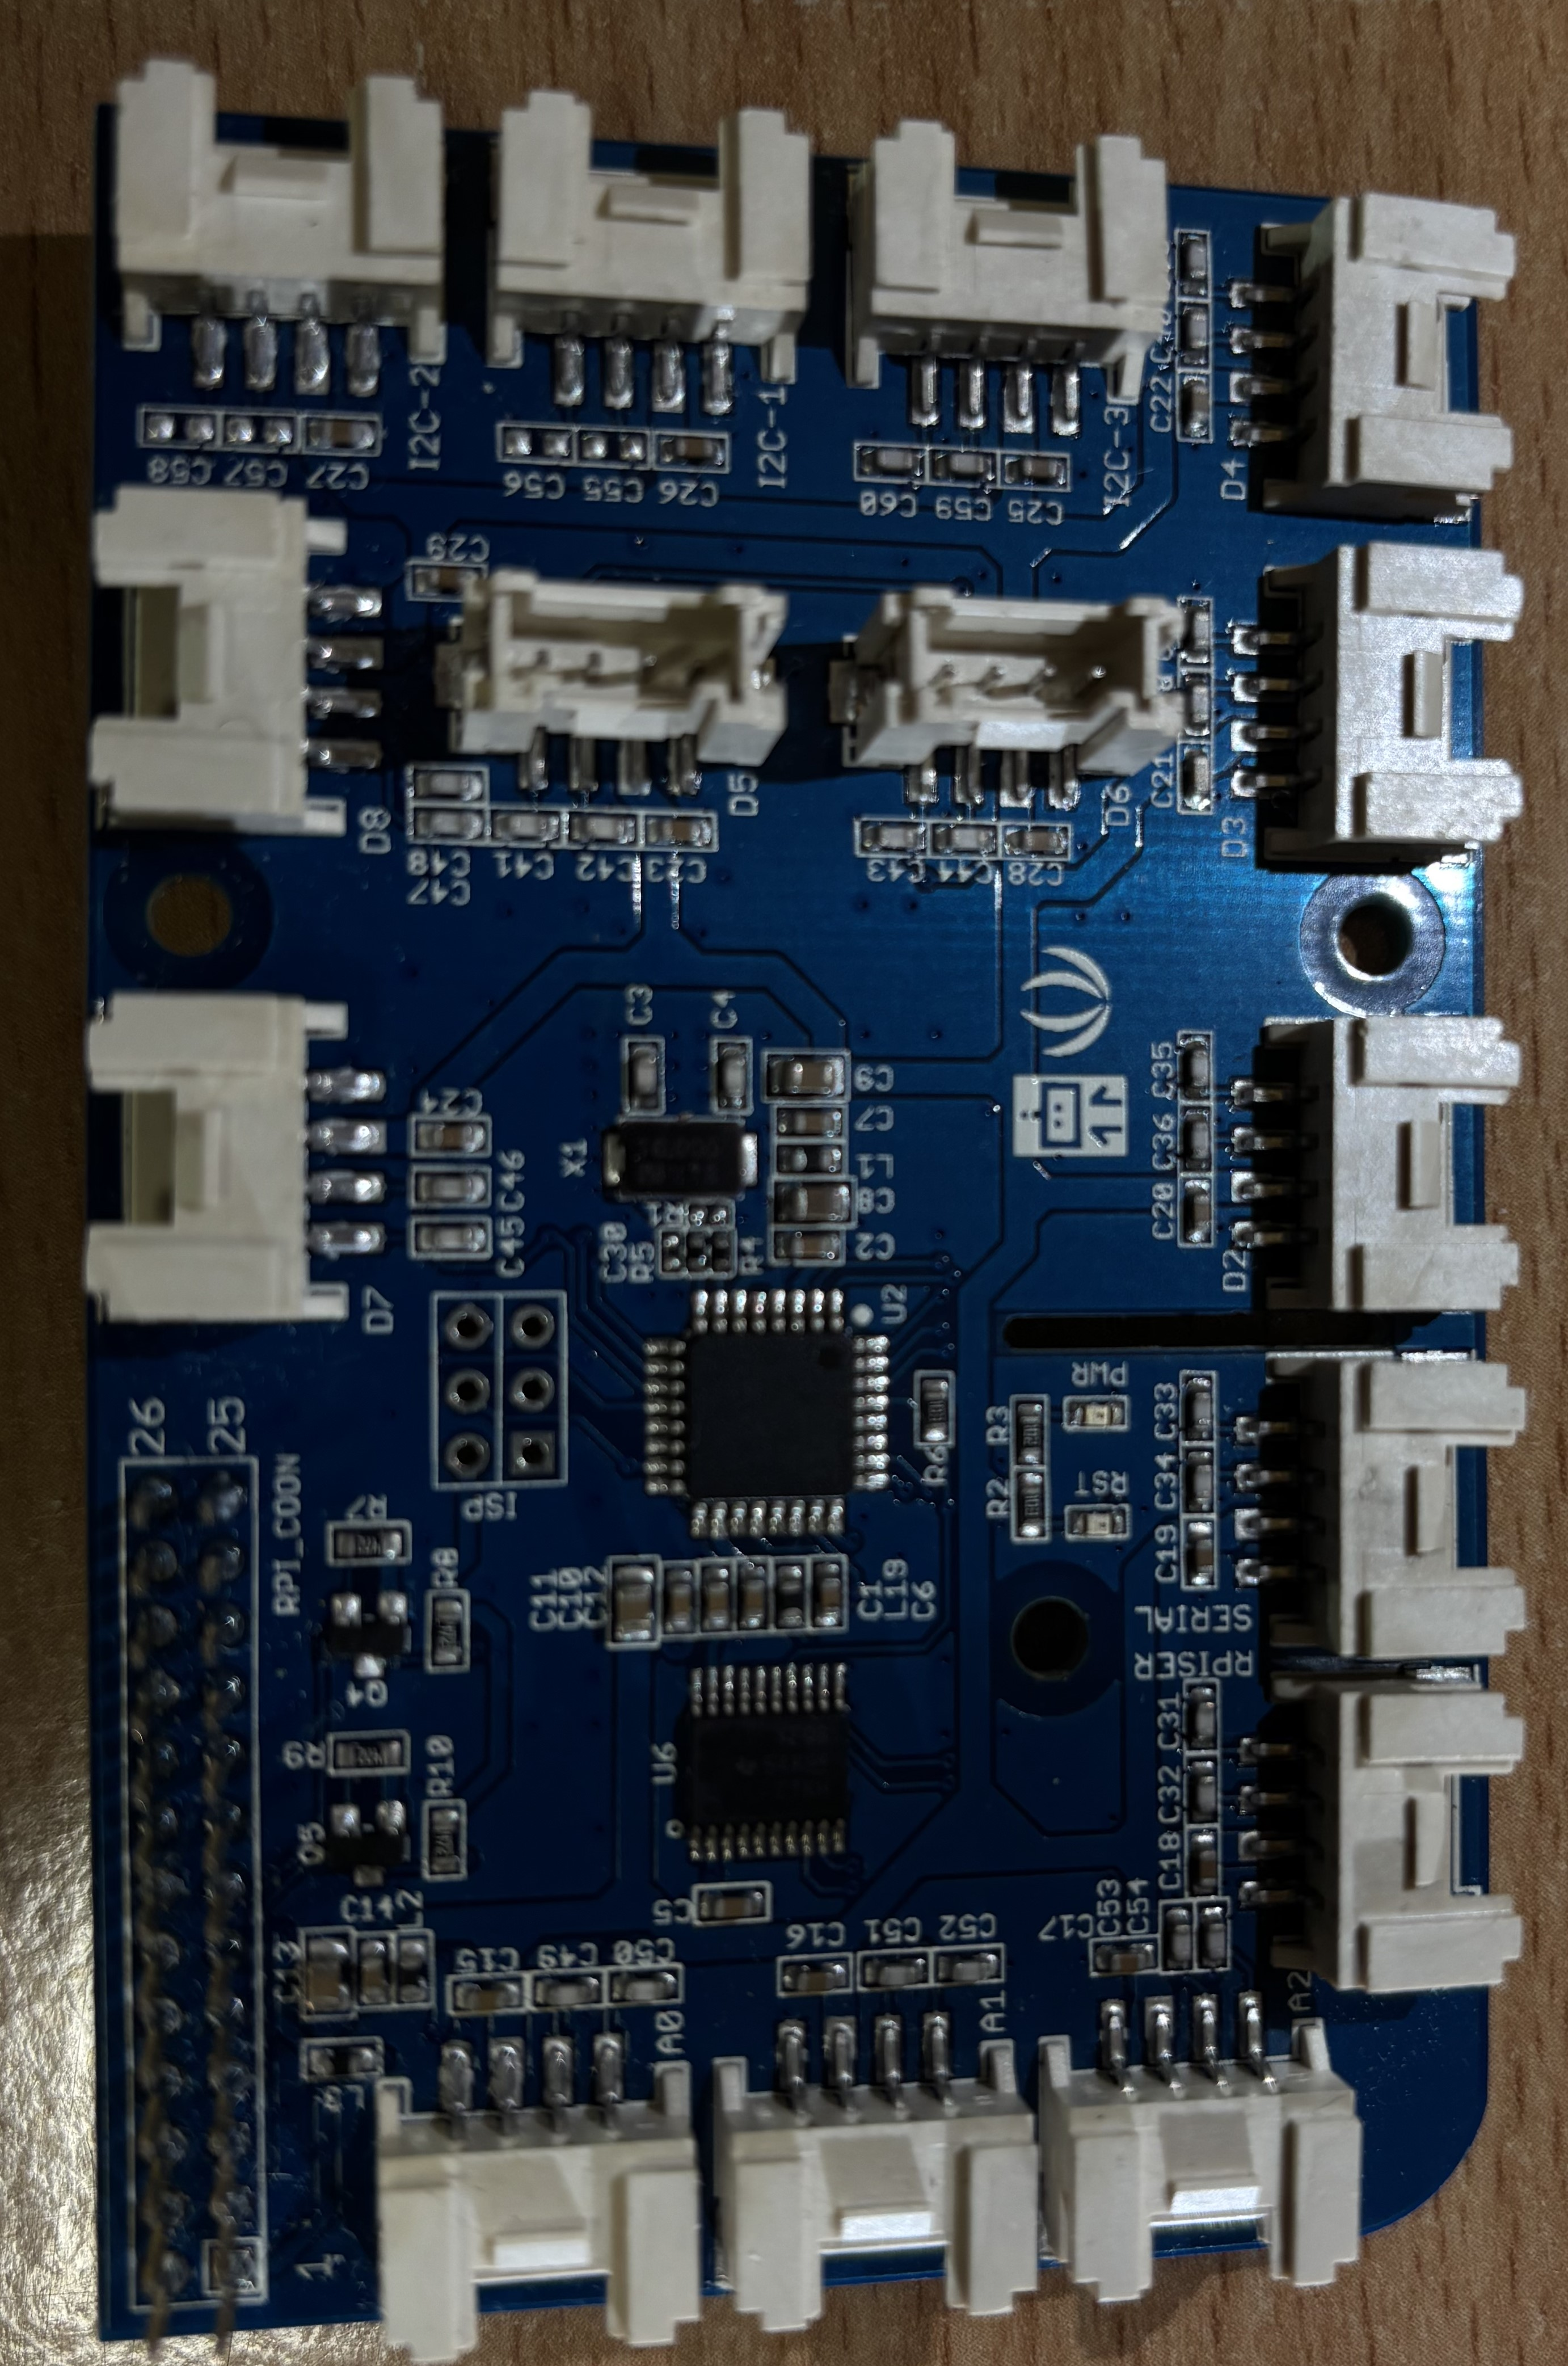Induktor: (397, 1937, 430, 2004), (310, 2046, 381, 2074), (775, 1145, 840, 1173), (775, 1566, 803, 1626)
